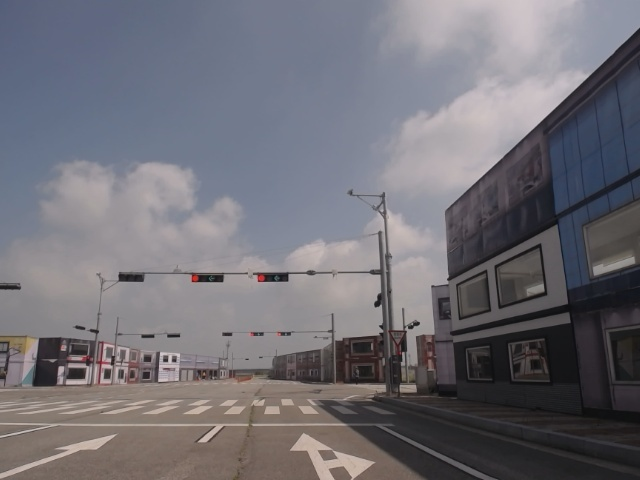left_green_4: (191, 274, 224, 283), (258, 274, 289, 282)
